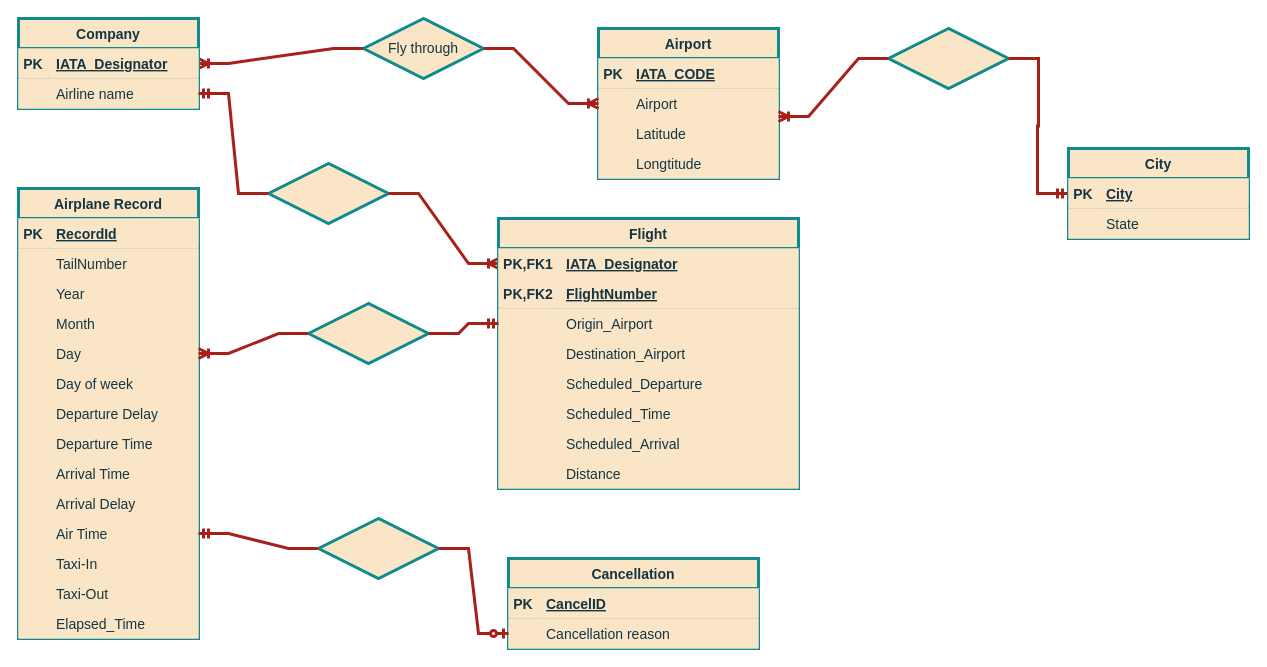
This 1267x667 diagram has some shape labels left out. The centre of each missing label's shape, as x and y in pixels:
"Contains/is in" goes at (x=948, y=58).
"Fly" goes at (x=368, y=333).
"No flgiht or not" goes at (x=378, y=548).
"Schedule" goes at (x=328, y=193).
